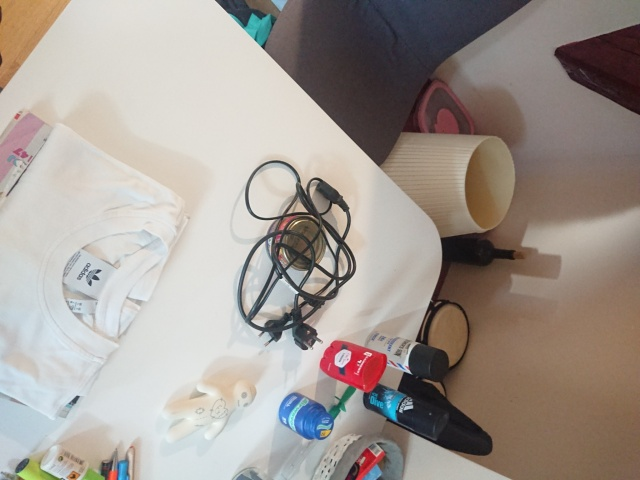Giana Tuna Salad Mexico 185g: (264, 210, 330, 274)
